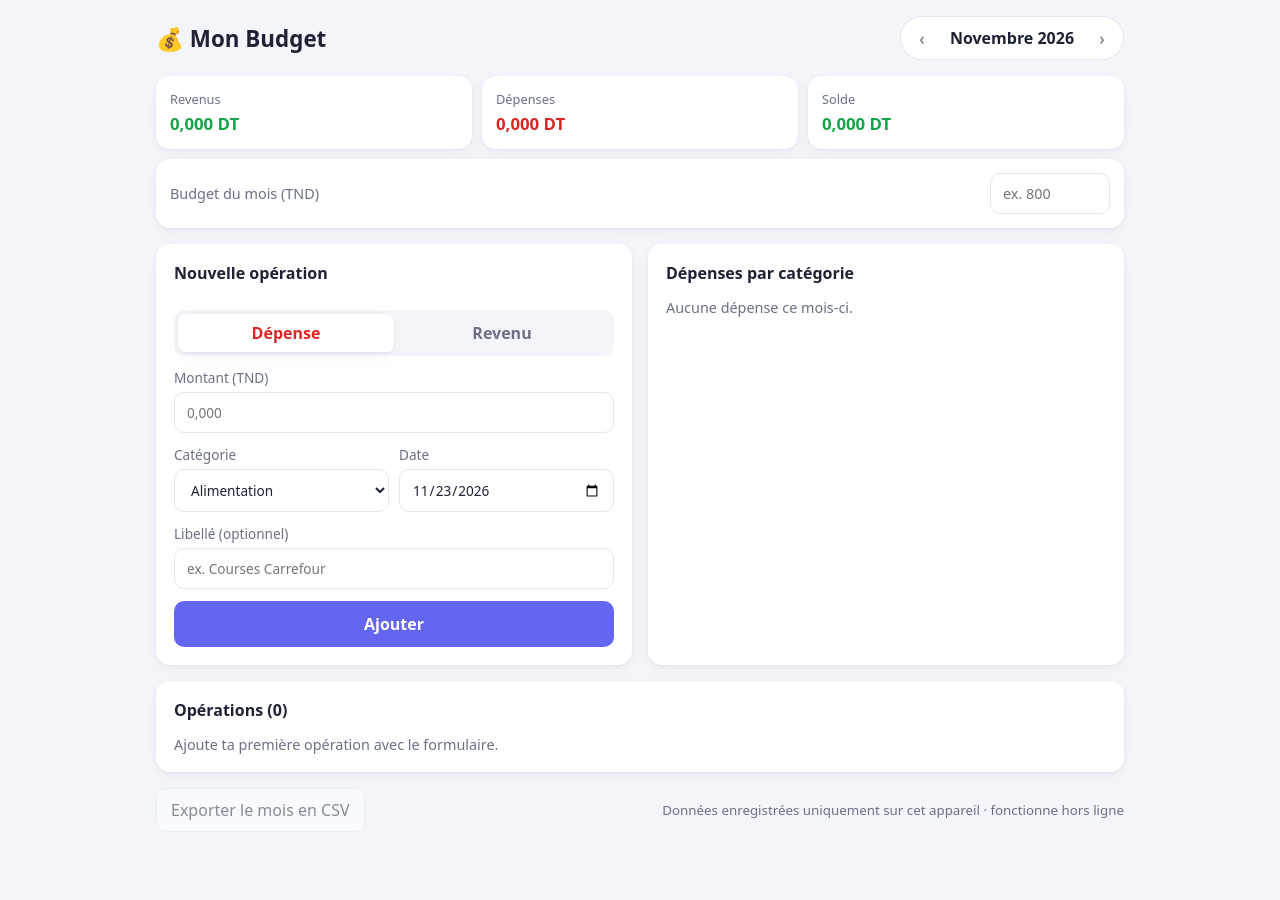
Scenario: App › affiche une erreur si le montant est vide
Click the button "Ajouter".
click(394, 624)  # box [174,601,614,647]
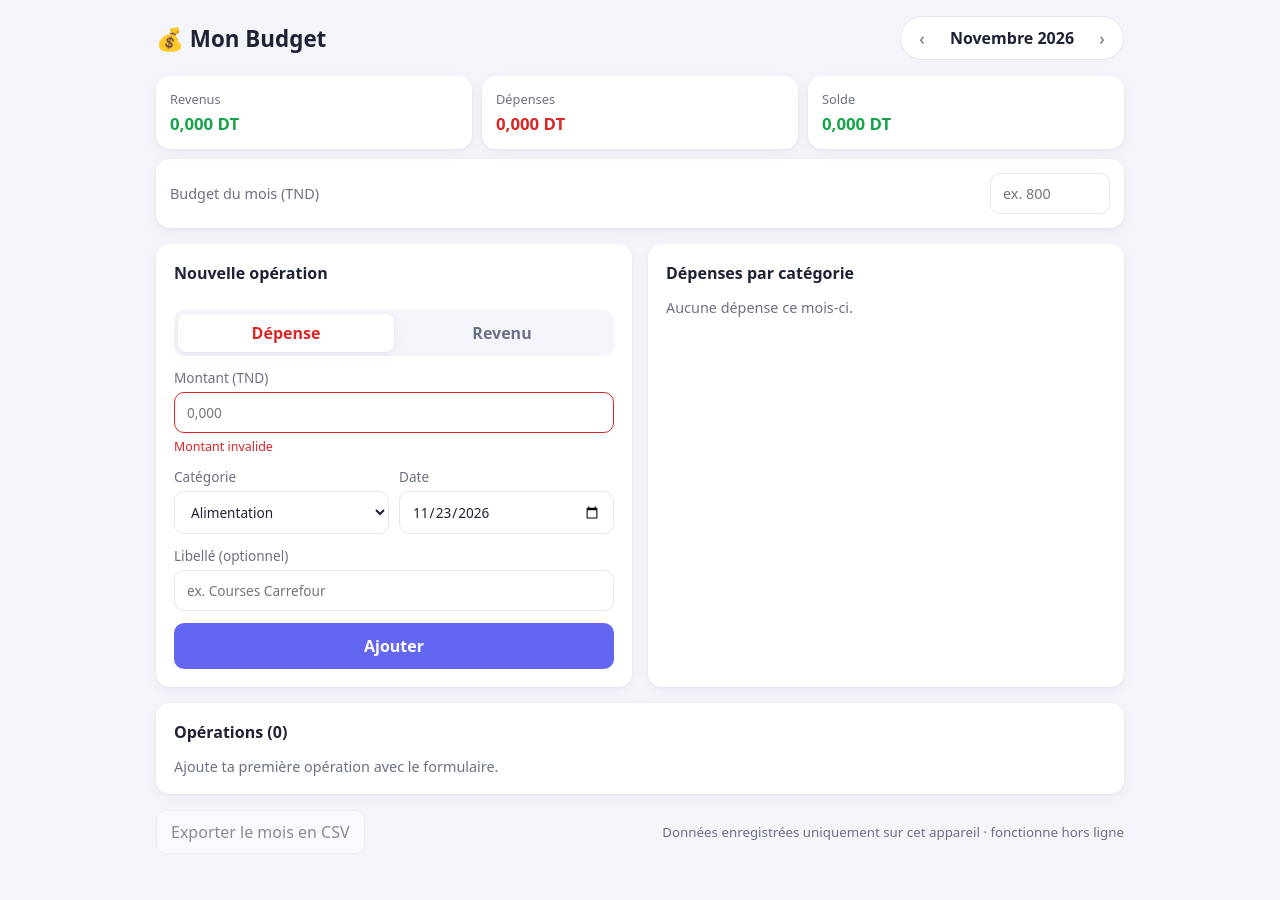
Result: the text "Montant invalide" is shown at [174,438,273,455]
